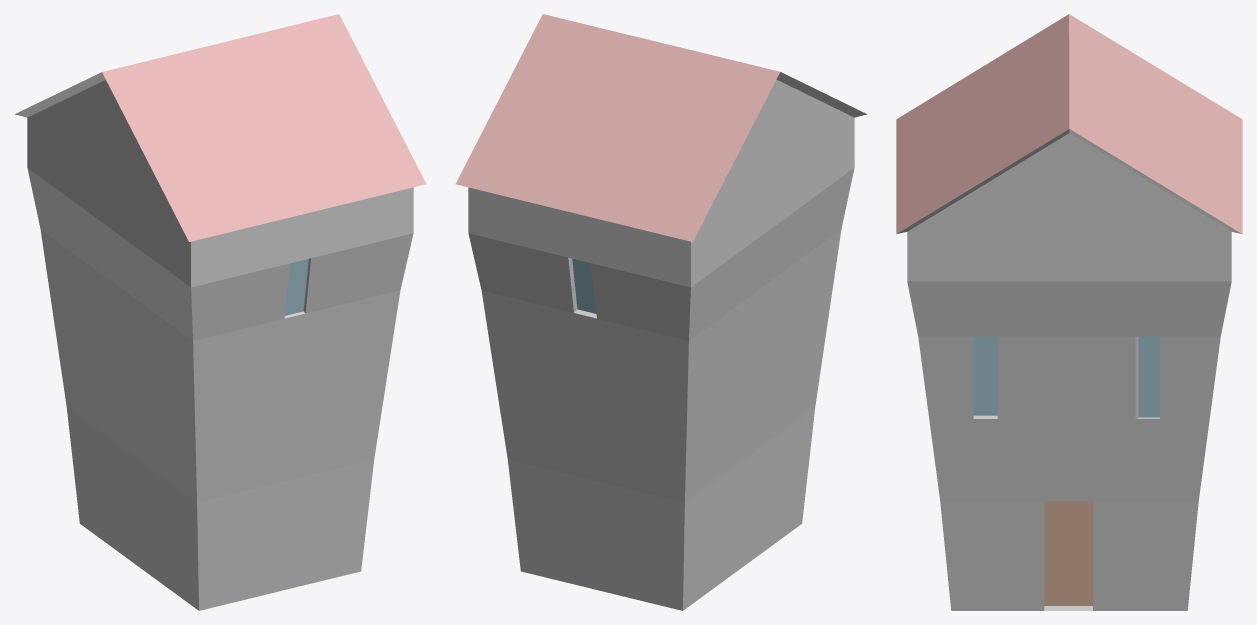
The model's file is CasaDos.fbx.
3 renders of one model, left to right at view 1: azimuth 30°, elevation 25°; view 2: azimuth 150°, elevation 25°; view 3: azimuth 270°, elevation 25°, orthographic.
Visible parts, largest first — view 1: CasaDos; view 2: CasaDos; view 3: CasaDos.
Boxes of the visible parts, x1=… form: CasaDos: x1=15, y1=14, x2=426, y2=610; CasaDos: x1=455, y1=14, x2=866, y2=610; CasaDos: x1=896, y1=14, x2=1242, y2=610.
Bounding box in the file's own units: 1145 × 2326 × 1459.
